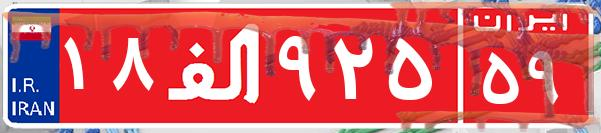1: (57, 26, 110, 107)
2: (330, 28, 385, 110)
5: (385, 28, 445, 110), (475, 38, 525, 113)
8: (110, 28, 158, 105)
9: (273, 28, 330, 110), (525, 38, 570, 115)
الف: (158, 15, 273, 115)
